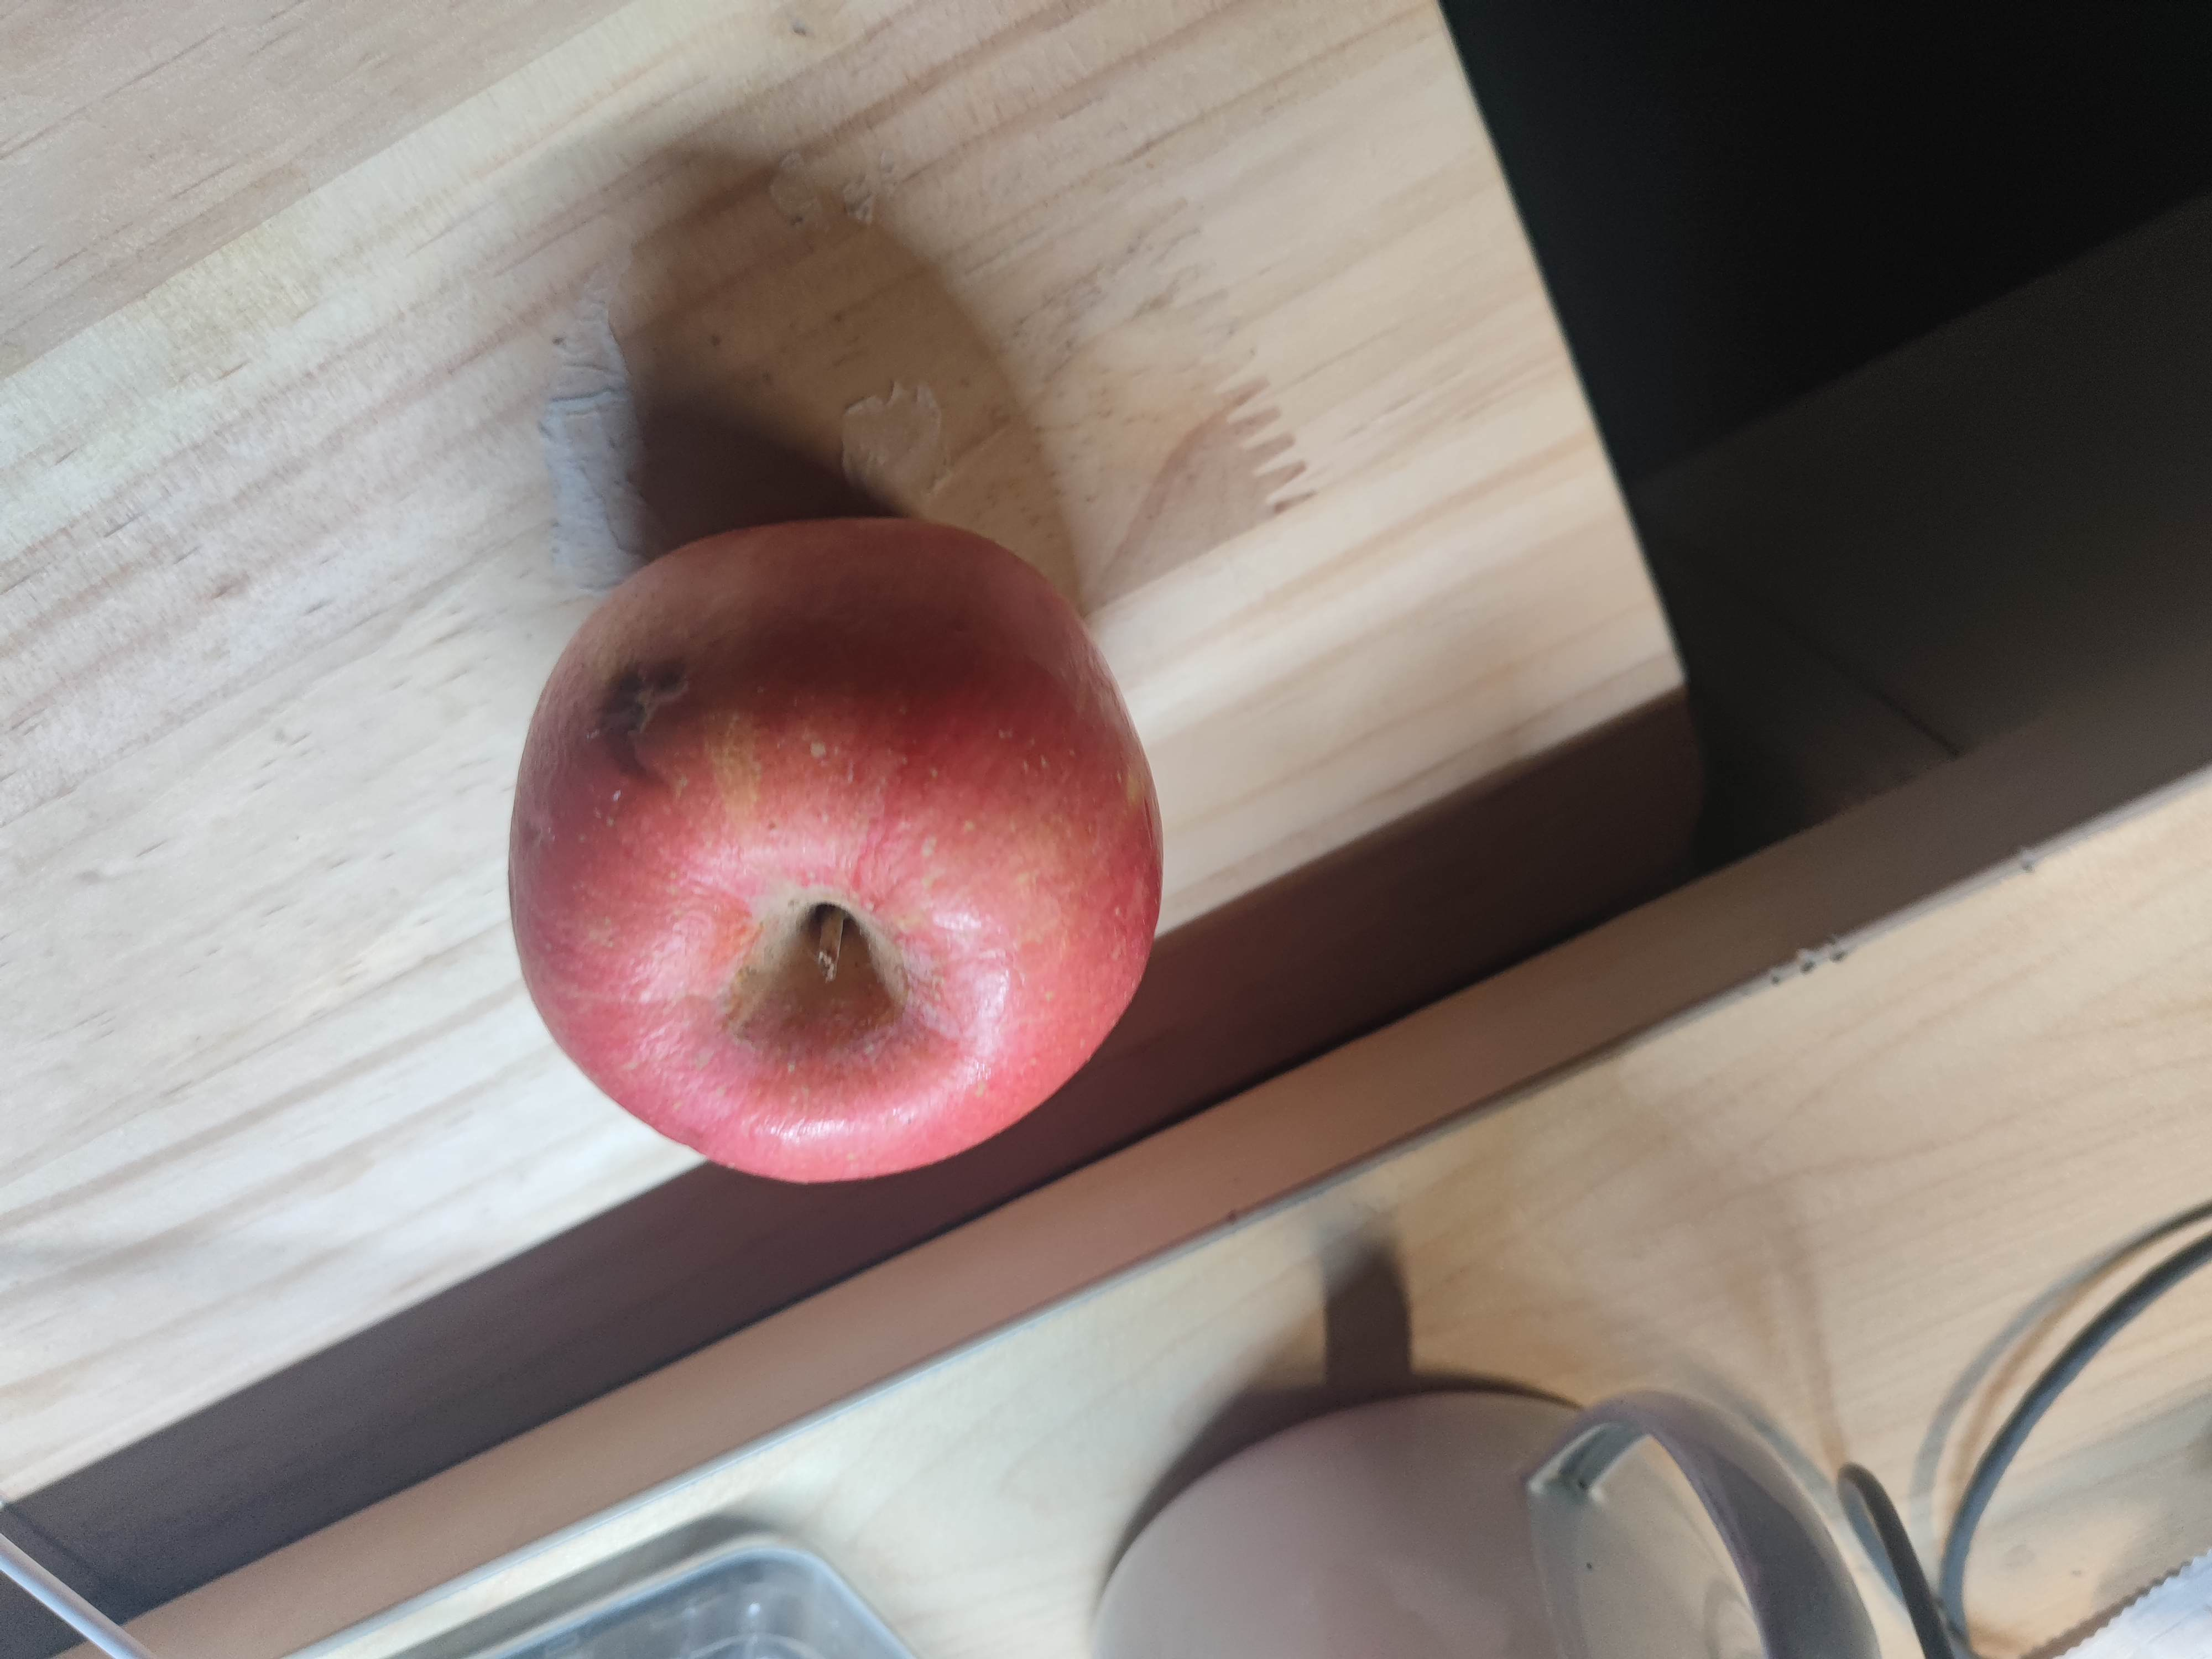apple: (507, 518, 1165, 1195)
